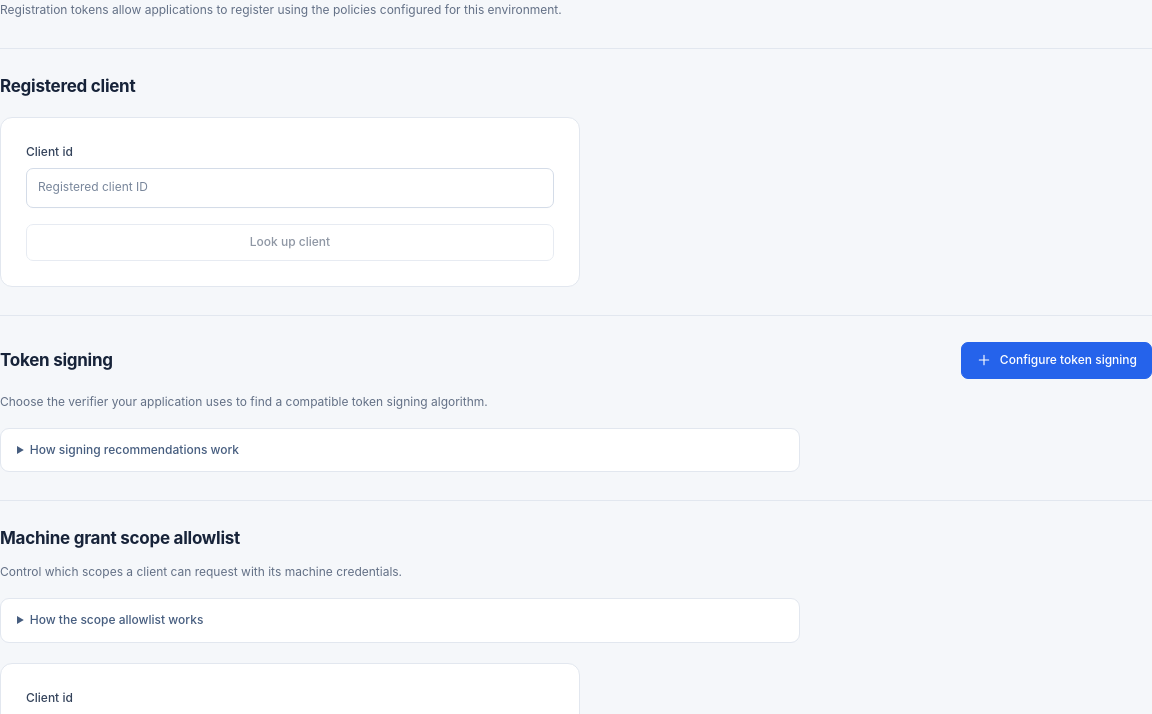
Test case: confirming the wizard pins the recommended algorithm › PUTs the documented client path with the body { algorithm } and an Idempotency-Key
(page scrolled)
Click the button "Configure token signing" at (1056, 360), box 961,342 -> 1151,379
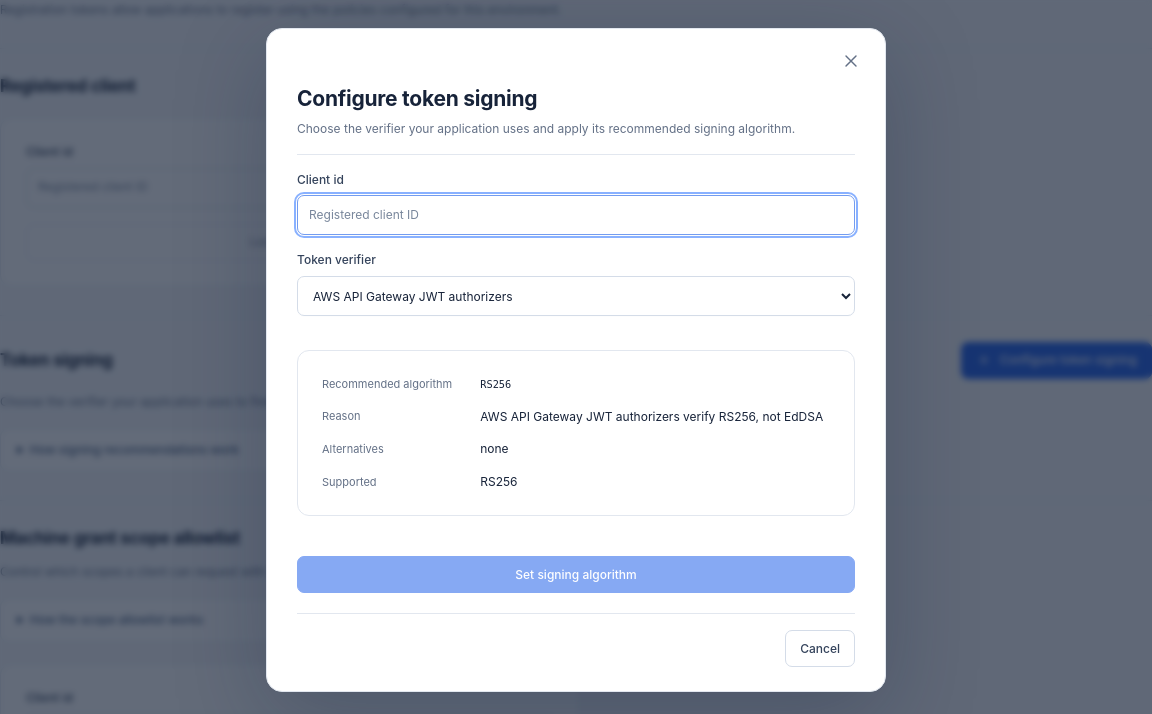
Type "cli_a" into the field with id "signing-client-id" at (576, 216), box 297,196 -> 855,236
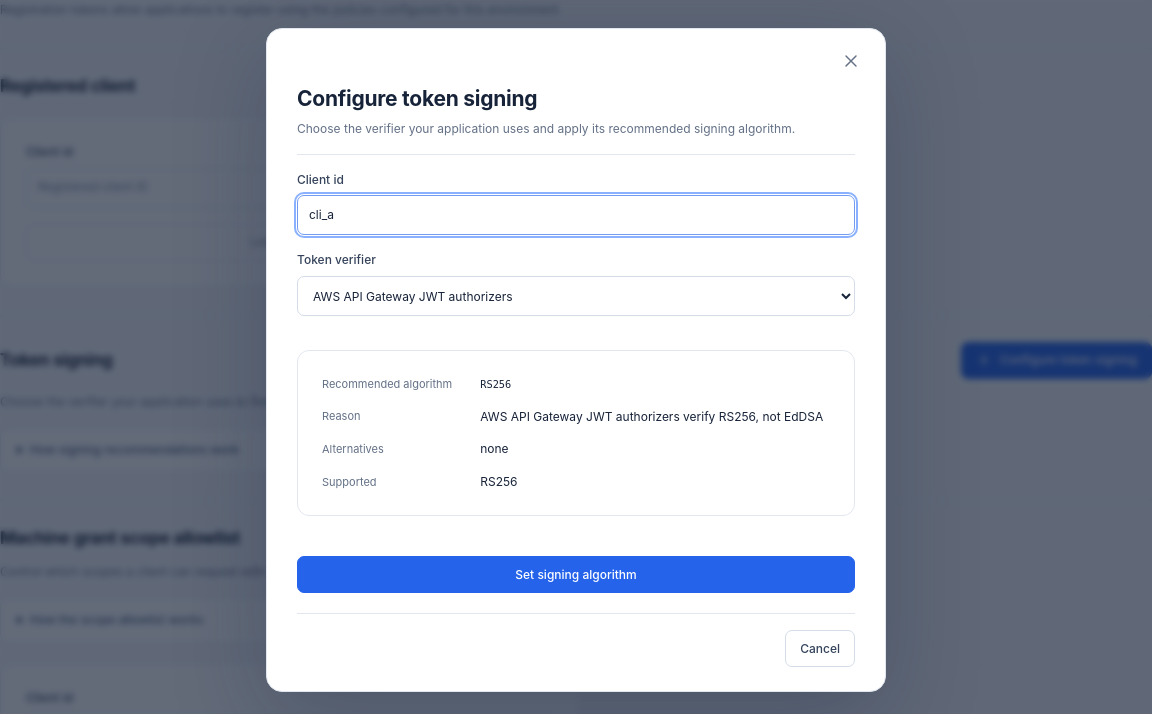
Click the button "Set signing algorithm" at (576, 575), box 297,556 -> 855,593
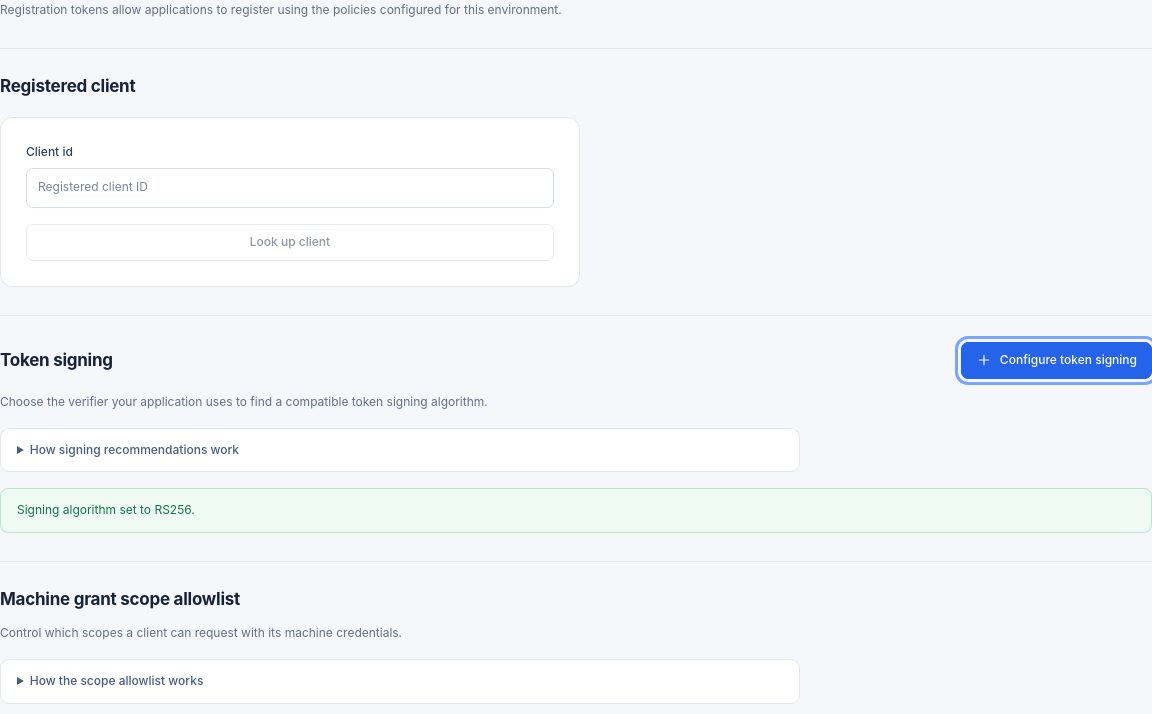
Now the text "Signing algorithm set to RS256." is shown, box 0,488 -> 1151,533
